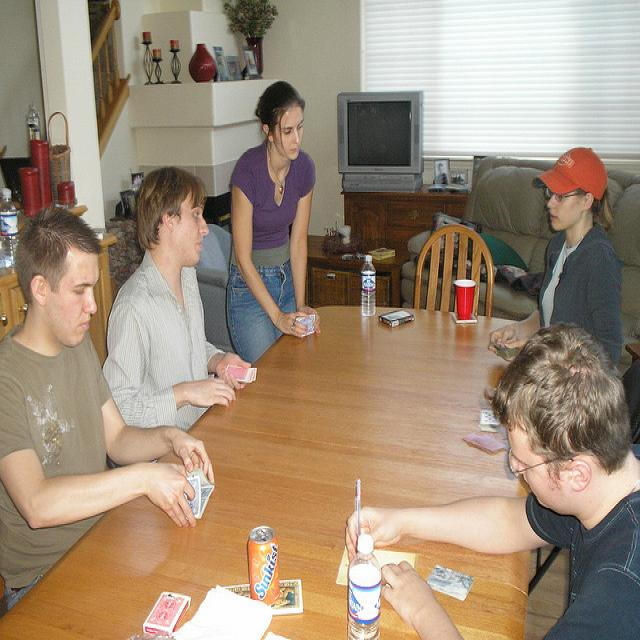chair: (414, 229, 497, 319), (526, 540, 566, 605), (0, 271, 26, 339)
dining table: (2, 303, 530, 632)
